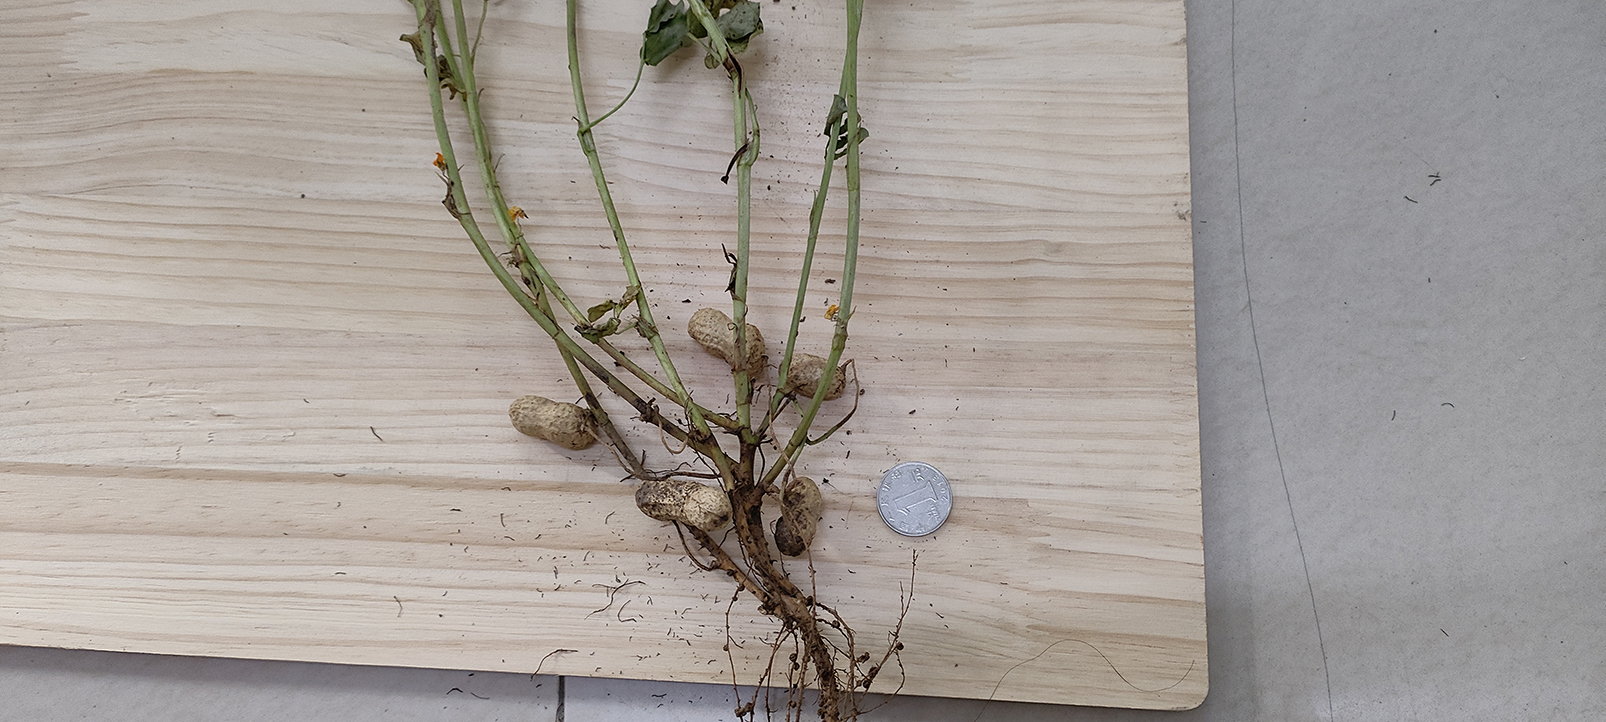h: (687, 306, 767, 372), (509, 395, 598, 451), (787, 350, 845, 400)
l: (635, 479, 729, 527), (774, 475, 821, 558)
